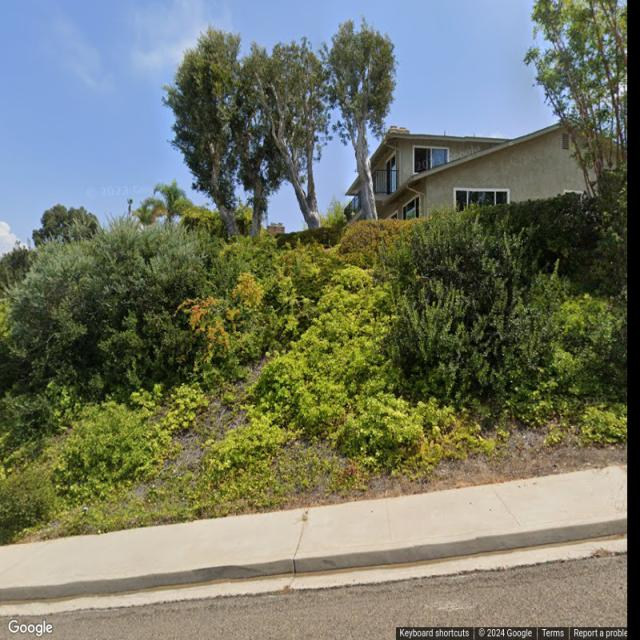House: (344, 125, 628, 220)
